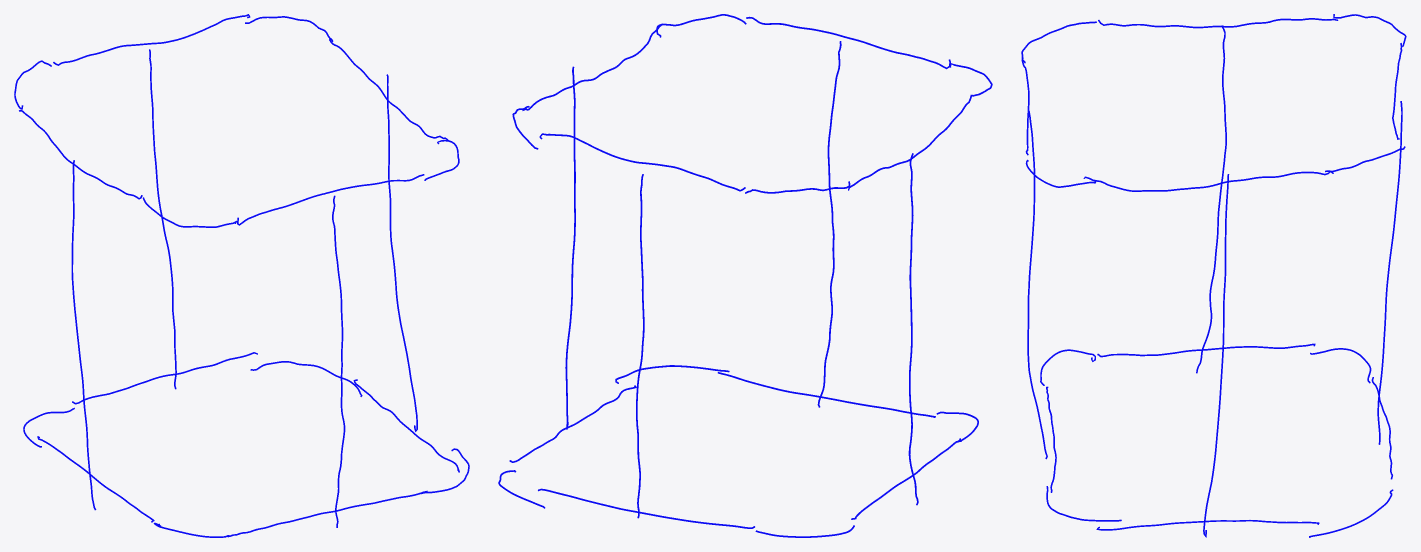
Rendered from scaffold_sketch_P4_tutorial.glb.
The picture shows the model from 3 angles, left to right: view 1: azimuth 30°, elevation 25°; view 2: azimuth 150°, elevation 25°; view 3: azimuth 270°, elevation 25°; orthographic projection. The views are drawn at different scales.
Visible parts, largest first — view 1: scaffold_sketch_P4_tutorial; view 2: scaffold_sketch_P4_tutorial; view 3: scaffold_sketch_P4_tutorial.
Boxes of the visible parts, x1,y1,x2,y2 form: scaffold_sketch_P4_tutorial: [14, 14, 469, 537]; scaffold_sketch_P4_tutorial: [498, 14, 992, 537]; scaffold_sketch_P4_tutorial: [1021, 14, 1406, 537].
Bounding box in the file's own units: 0.9565 × 1 × 0.9415.
